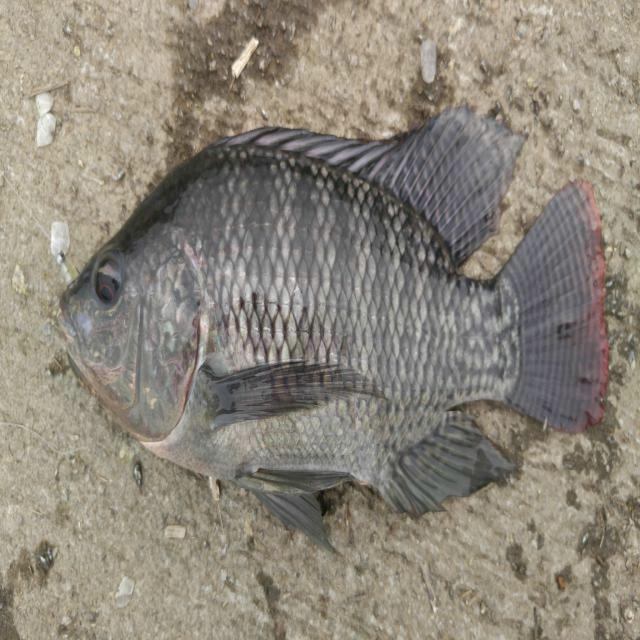fish: (54, 126, 607, 550)
